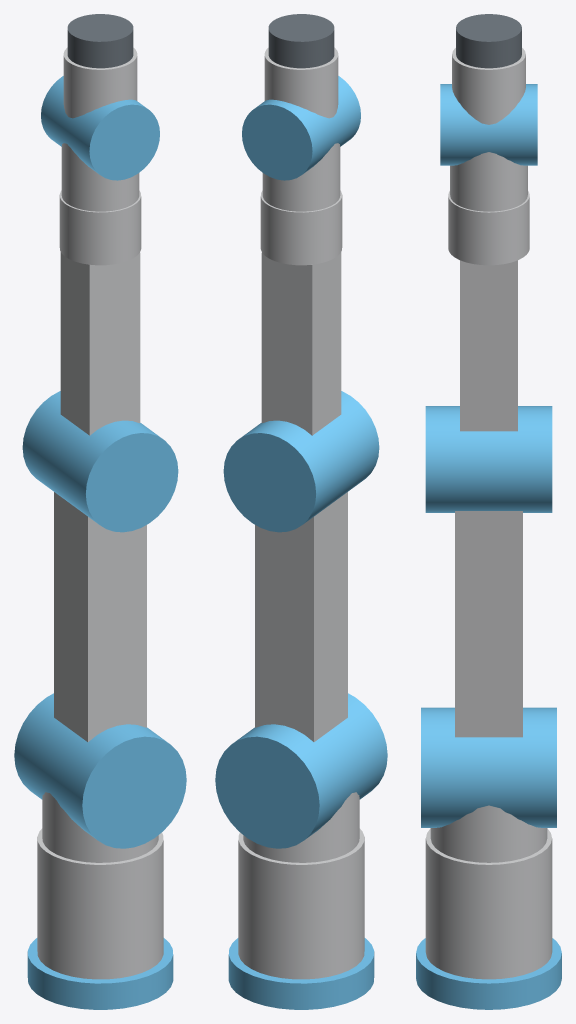
Rendered from mini_arm.glb.
3 renders of one model, left to right at view 1: azimuth 30°, elevation 25°; view 2: azimuth 150°, elevation 25°; view 3: azimuth 270°, elevation 25°, orthographic.
Parts seen in each view (by area): view 1: link2, base_link, link1, link3, link4, link5, link6; view 2: link2, base_link, link1, link3, link4, link5, link6; view 3: link2, base_link, link1, link3, link4, link5, link6.
Boxes of the visible parts, left/top/right/bottom form: link2: left=22, top=391, right=178, bottom=741; base_link: left=27, top=828, right=173, bottom=1009; link1: left=14, top=693, right=186, bottom=862; link3: left=59, top=190, right=141, bottom=435; link4: left=41, top=76, right=159, bottom=211; link5: left=63, top=47, right=137, bottom=118; link6: left=67, top=14, right=133, bottom=68; link2: left=223, top=391, right=379, bottom=741; base_link: left=228, top=828, right=374, bottom=1009; link1: left=215, top=693, right=387, bottom=862; link3: left=260, top=190, right=342, bottom=435; link4: left=242, top=76, right=360, bottom=211; link5: left=264, top=47, right=338, bottom=118; link6: left=268, top=14, right=334, bottom=68; link2: left=425, top=406, right=552, bottom=737; base_link: left=416, top=828, right=561, bottom=1009; link1: left=421, top=707, right=556, bottom=862; link3: left=448, top=191, right=529, bottom=431; link4: left=440, top=84, right=537, bottom=211; link5: left=452, top=48, right=525, bottom=124; link6: left=456, top=14, right=521, bottom=68.
Bounding box in the file's own units: 0.15 × 1.08 × 0.15.
